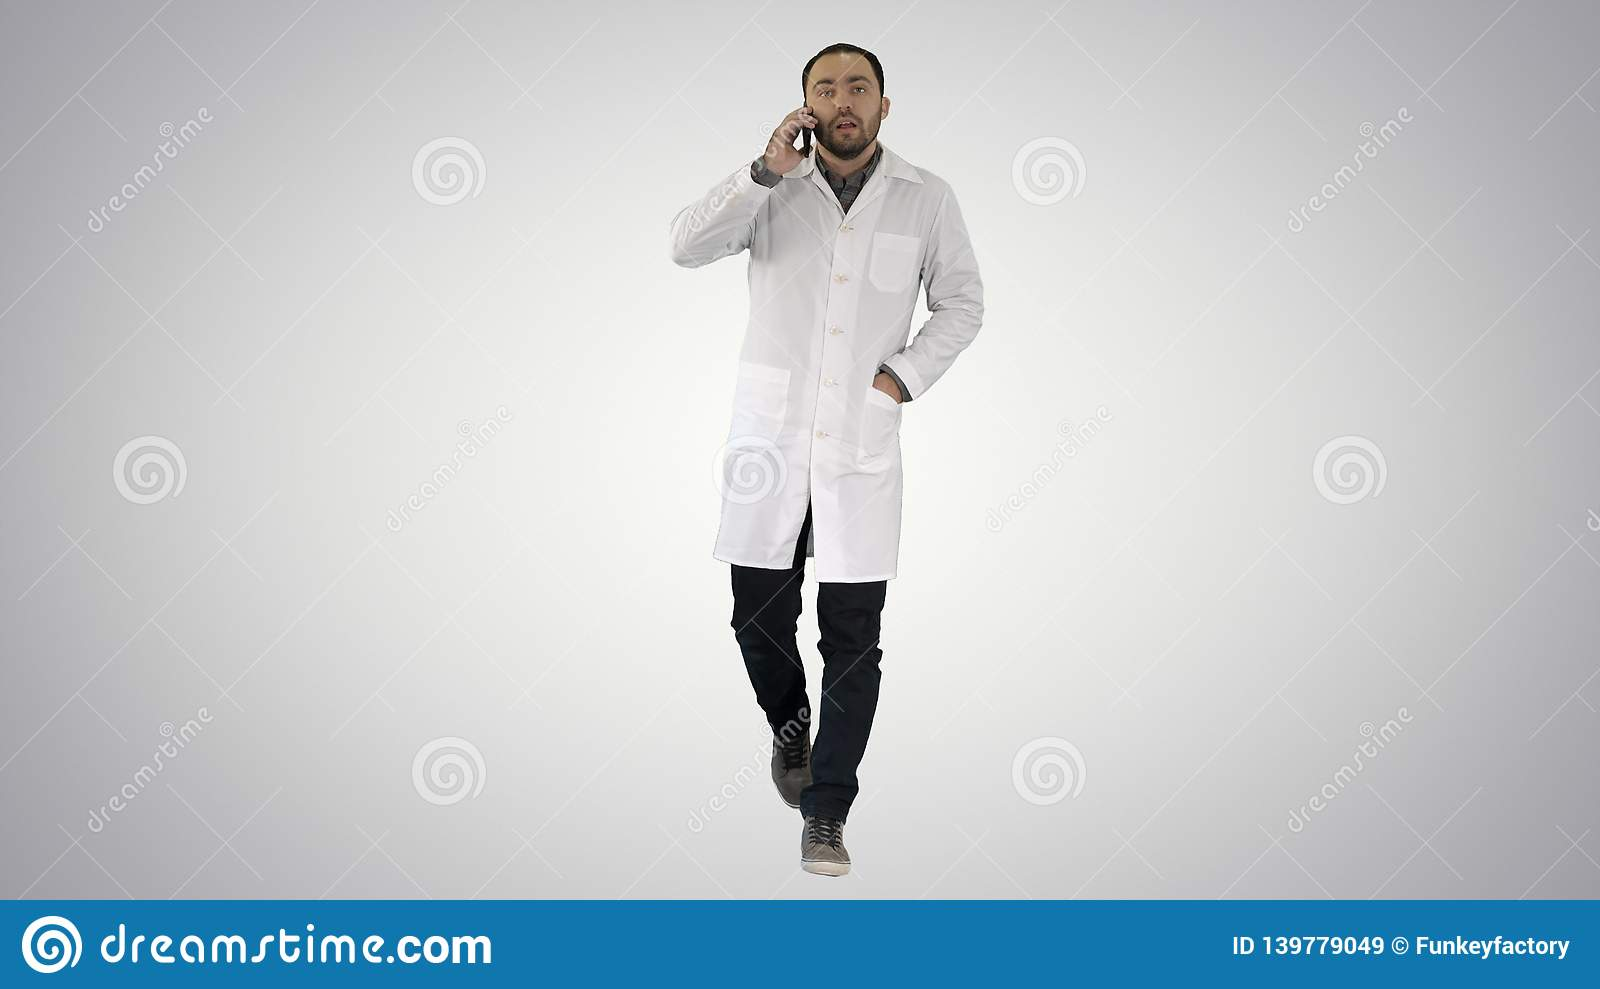phone: (799, 99, 816, 165)
talk: (763, 73, 875, 181)
